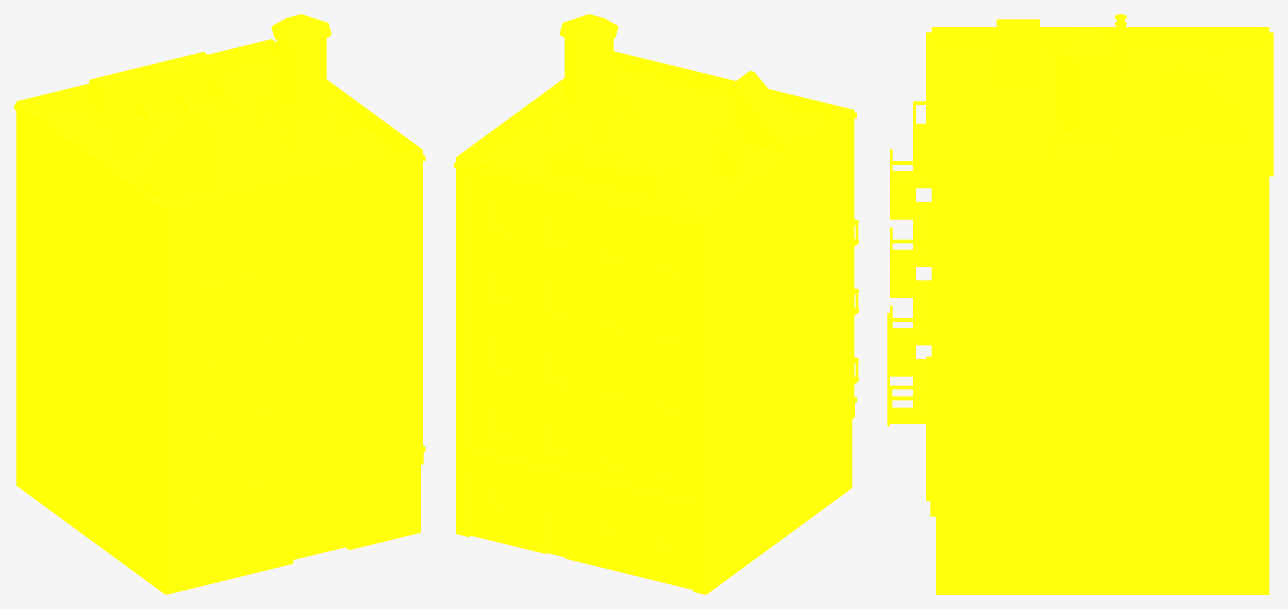
Rendered from building-block-4floor-front.glb.
3 views of the same model, side by side, from view 1: azimuth 30°, elevation 25°; view 2: azimuth 150°, elevation 25°; view 3: azimuth 270°, elevation 25° (orthographic). The views are drawn at different scales.
Visible parts, largest first — view 1: building-block-4floor-front; view 2: building-block-4floor-front; view 3: building-block-4floor-front.
Part boxes in pixels (x1,y1,x2,y2): building-block-4floor-front: [14, 14, 425, 594]; building-block-4floor-front: [454, 14, 858, 594]; building-block-4floor-front: [887, 14, 1273, 594].
Bounding box in the file's own units: 11.4 × 20.61 × 13.4.
1 material, 1 textured.
